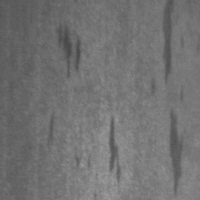inclusion: (161, 106, 192, 198), (100, 111, 131, 191), (156, 1, 182, 90), (53, 15, 85, 81), (40, 98, 64, 157), (71, 144, 95, 170)
